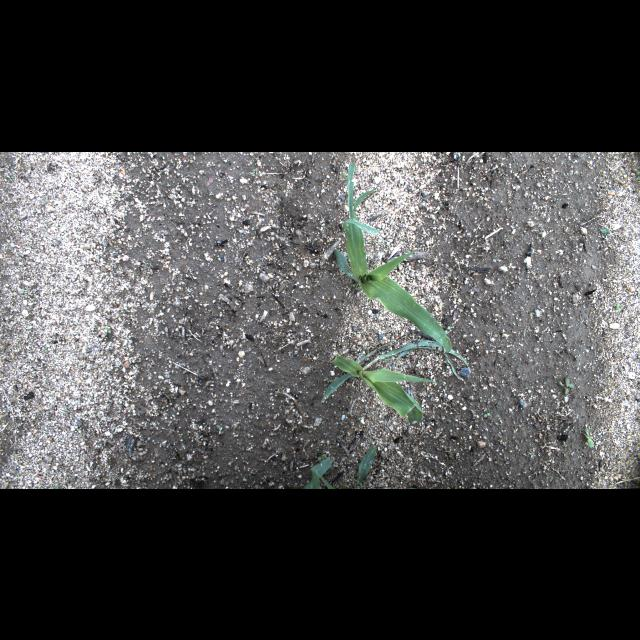crop: (322, 160, 472, 402), (330, 353, 432, 423), (309, 454, 337, 488), (356, 442, 376, 482)
weed: (556, 379, 576, 395), (584, 426, 594, 448), (527, 452, 535, 460), (614, 302, 622, 310), (104, 324, 110, 334), (356, 413, 362, 422), (600, 228, 608, 234), (484, 413, 491, 417)
